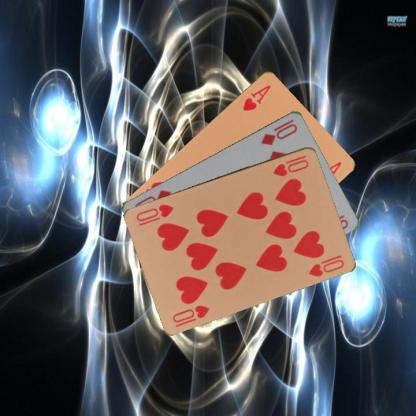10d: (258, 116, 299, 146)
10h: (270, 152, 310, 177), (170, 302, 211, 324)
Ah: (240, 82, 272, 112)
